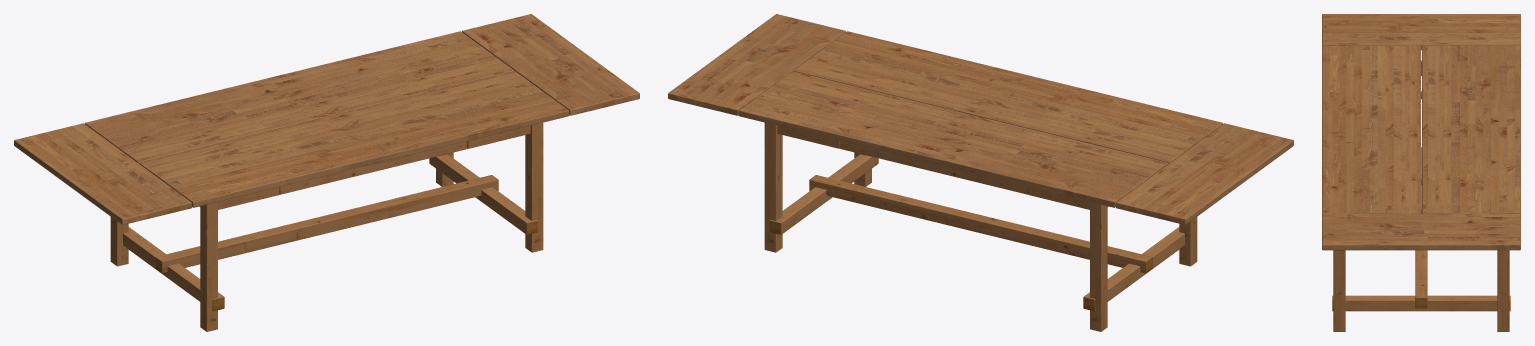
Rendered from NORDVIKEN_00488543.glb.
3 renders of one model, left to right at view 1: azimuth 30°, elevation 25°; view 2: azimuth 150°, elevation 25°; view 3: azimuth 270°, elevation 25°, orthographic. The views are drawn at different scales.
Size of the model in its own units: 2.89 by 0.7477 by 1.05.
Materials: 1 (1 with a texture image).
